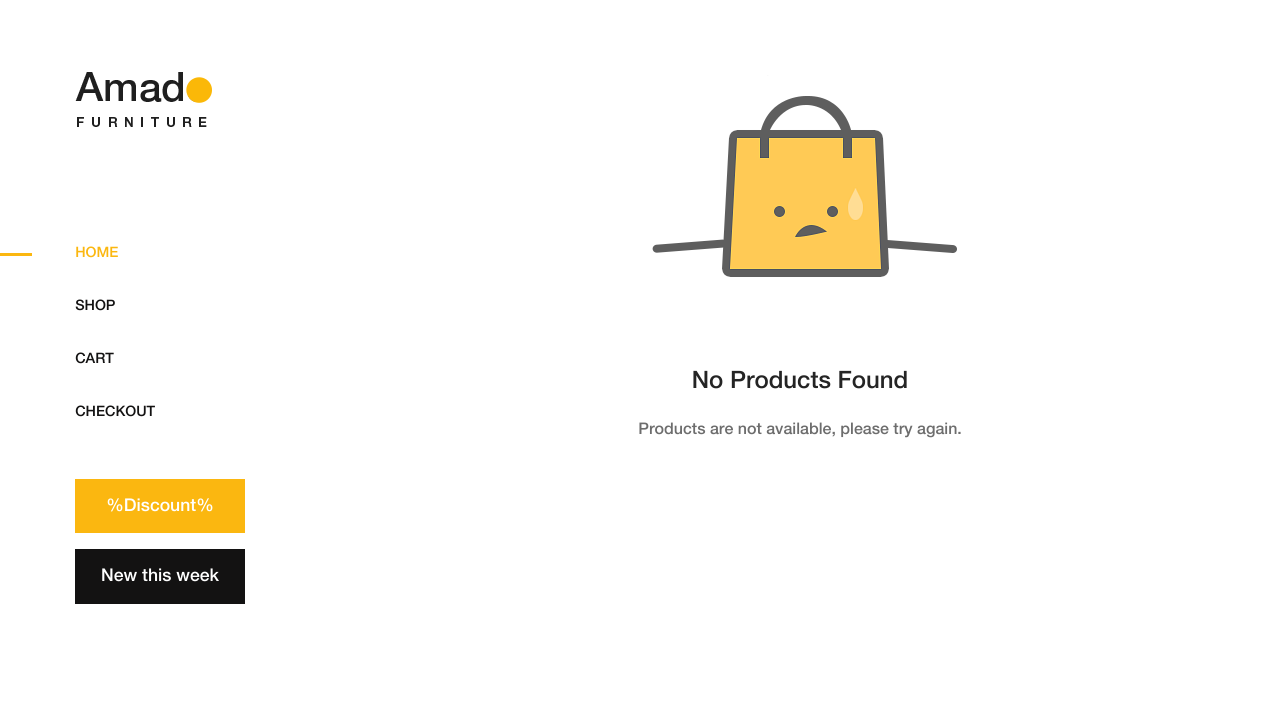
Scenario: Sidebar spec › Should navigate to the new this week page if the new this week link is clicked
Hover over the link "new this week": (160, 576) x1=75 y1=549 x2=245 y2=603
Click the link "new this week": click(160, 576) x1=75 y1=549 x2=245 y2=603
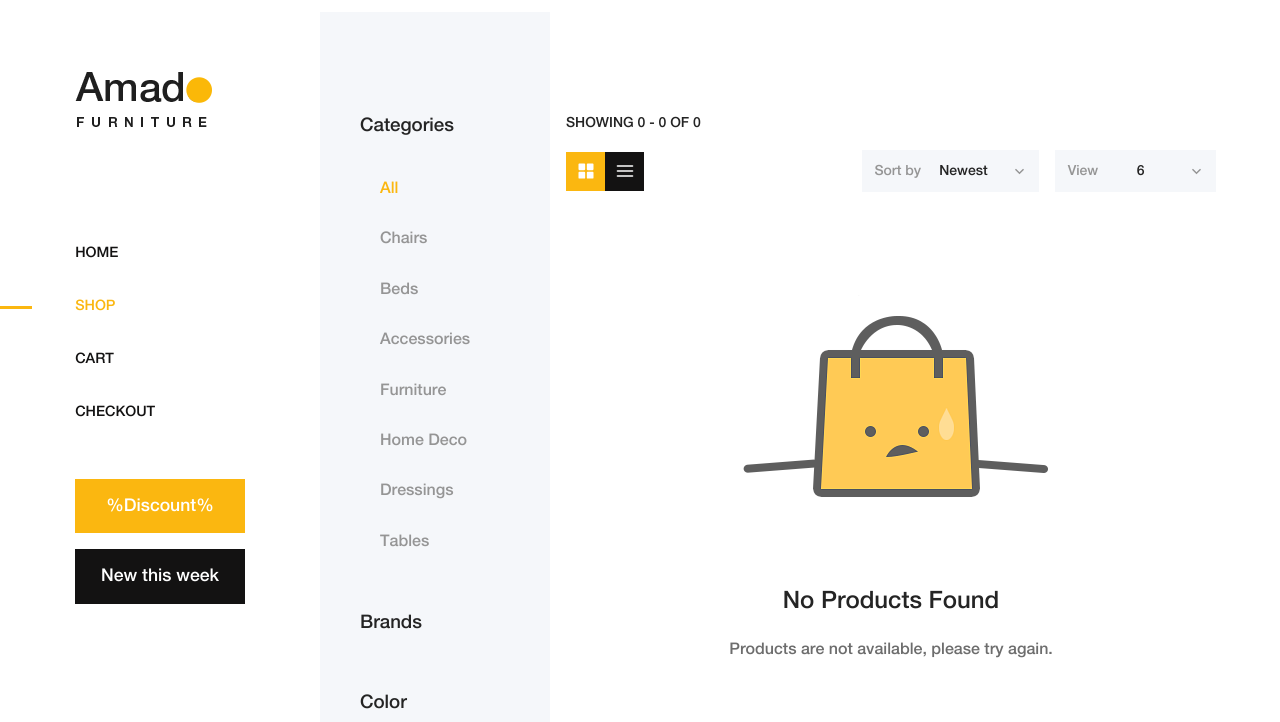
Now the heading "categories" is shown, box x1=360 y1=116 x2=454 y2=136
